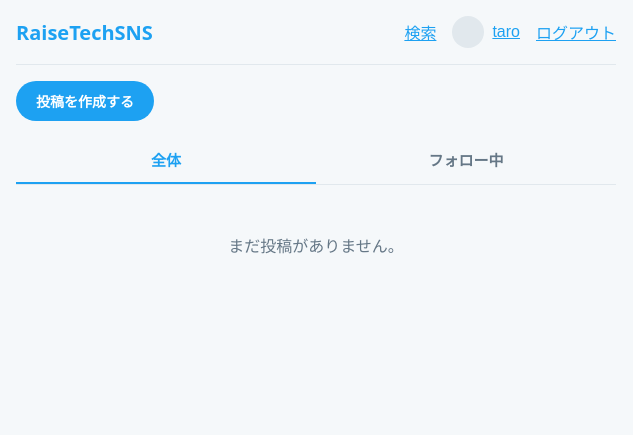
App › ログアウトするとログイン画面に戻る
The width and height of the screenshot is (633, 435).
Step 1. Click the button "ログアウト" → (576, 32), box [536, 20, 616, 44]
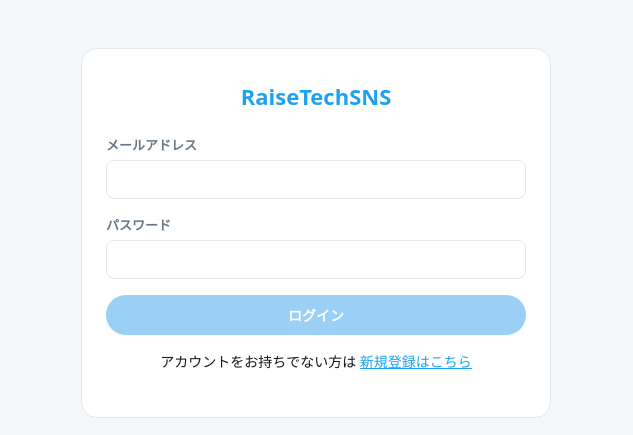
Expected: the heading "RaiseTechSNS" is shown, [241, 81, 391, 111]
Expected: the field labelled "メールアドレス" is shown, [106, 160, 526, 199]
